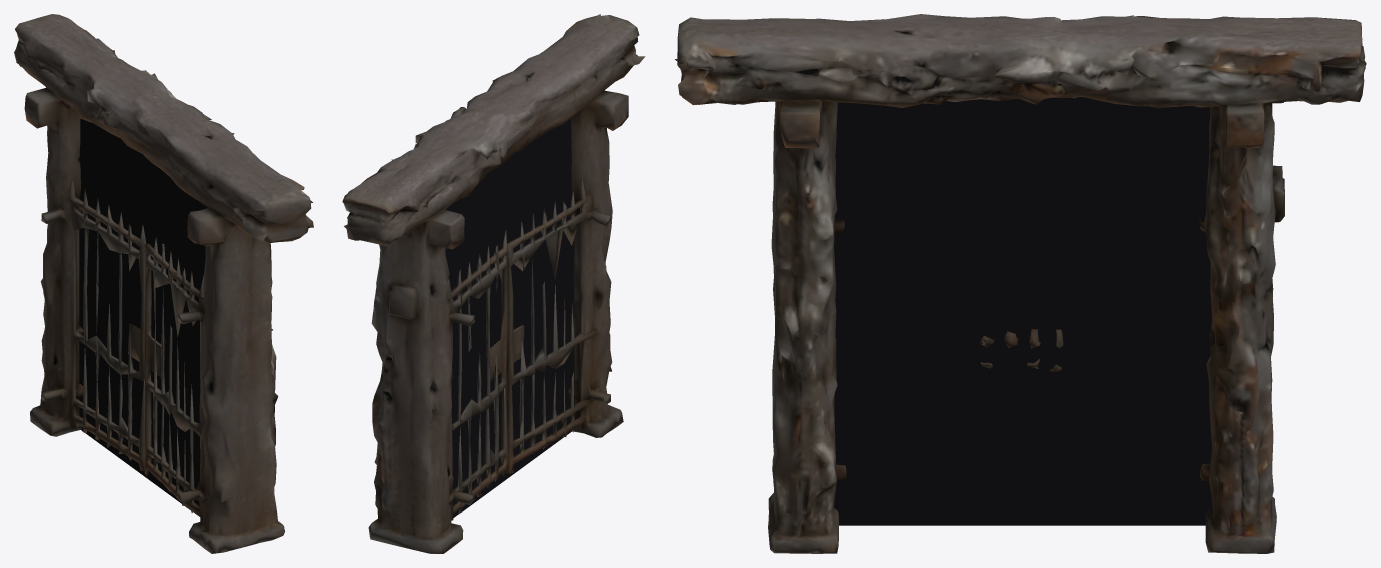
The model's file is mine_portal.900e5b0144.glb.
3 views of the same model, side by side, from view 1: azimuth 30°, elevation 25°; view 2: azimuth 150°, elevation 25°; view 3: azimuth 270°, elevation 25° (orthographic). The views are drawn at different scales.
Visible parts, largest first — view 1: mine_portal_0, mine_portal_1; view 2: mine_portal_0, mine_portal_1; view 3: mine_portal_1, mine_portal_0.
Part boxes in pixels (x1=…): mine_portal_0: x1=14, y1=14, x2=313, y2=553; mine_portal_1: x1=79, y1=118, x2=207, y2=515; mine_portal_0: x1=342, y1=14, x2=645, y2=553; mine_portal_1: x1=445, y1=118, x2=573, y2=517; mine_portal_1: x1=833, y1=97, x2=1212, y2=525; mine_portal_0: x1=675, y1=14, x2=1366, y2=553.
Bounding box in the file's own units: 1.16 × 4.4 × 5.4.
2 materials, 1 textured.
